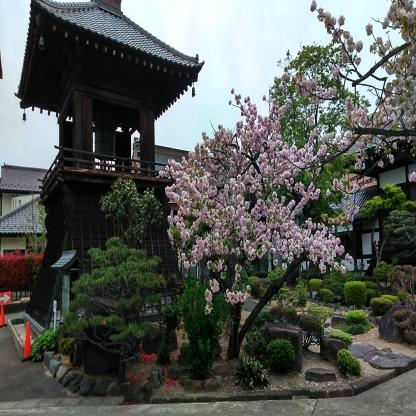YaeSakura: (158, 88, 354, 320), (288, 0, 416, 184)
